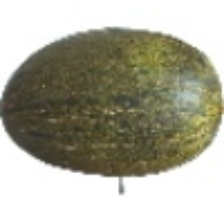honeydew: (19, 21, 168, 165)
